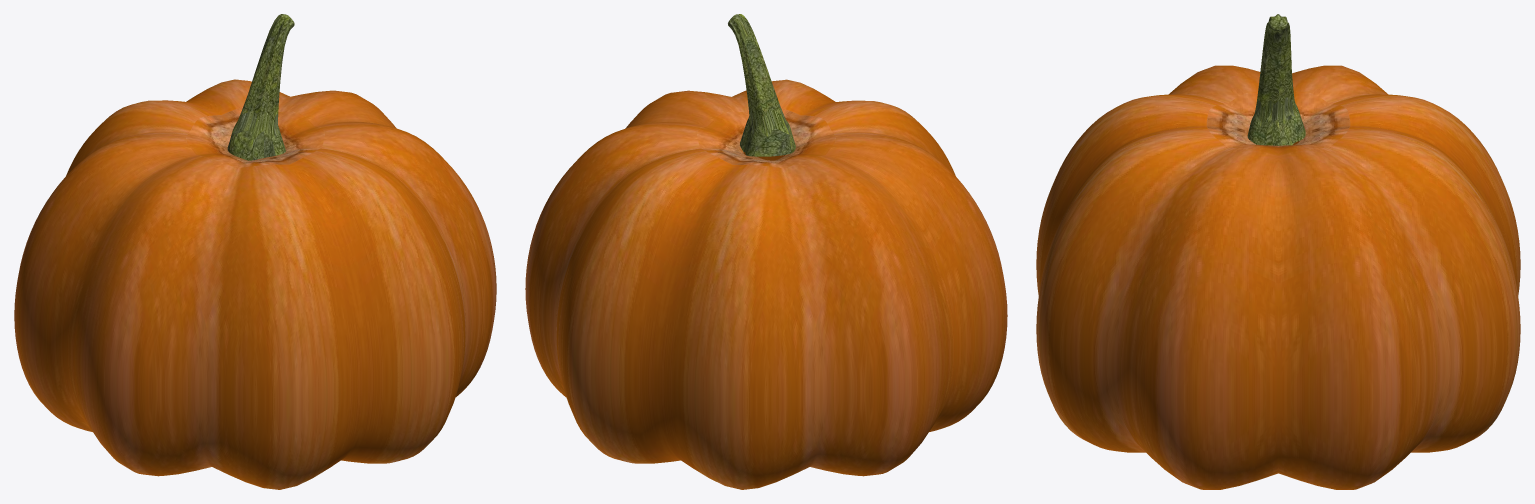
File: pumpkin.obj
3 views of the same model, side by side, from view 1: azimuth 30°, elevation 25°; view 2: azimuth 150°, elevation 25°; view 3: azimuth 270°, elevation 25° (orthographic). The views are drawn at different scales.
Parts seen in each view (by area): view 1: pumpkin:Mesh; view 2: pumpkin:Mesh; view 3: pumpkin:Mesh.
Part boxes in pixels (x1,y1,x2,y2): pumpkin:Mesh: [14, 14, 496, 489]; pumpkin:Mesh: [525, 14, 1007, 489]; pumpkin:Mesh: [1036, 14, 1520, 489].
Size of the model in its own units: 3.02 by 2.94 by 3.02.
2 materials, 2 textured.
